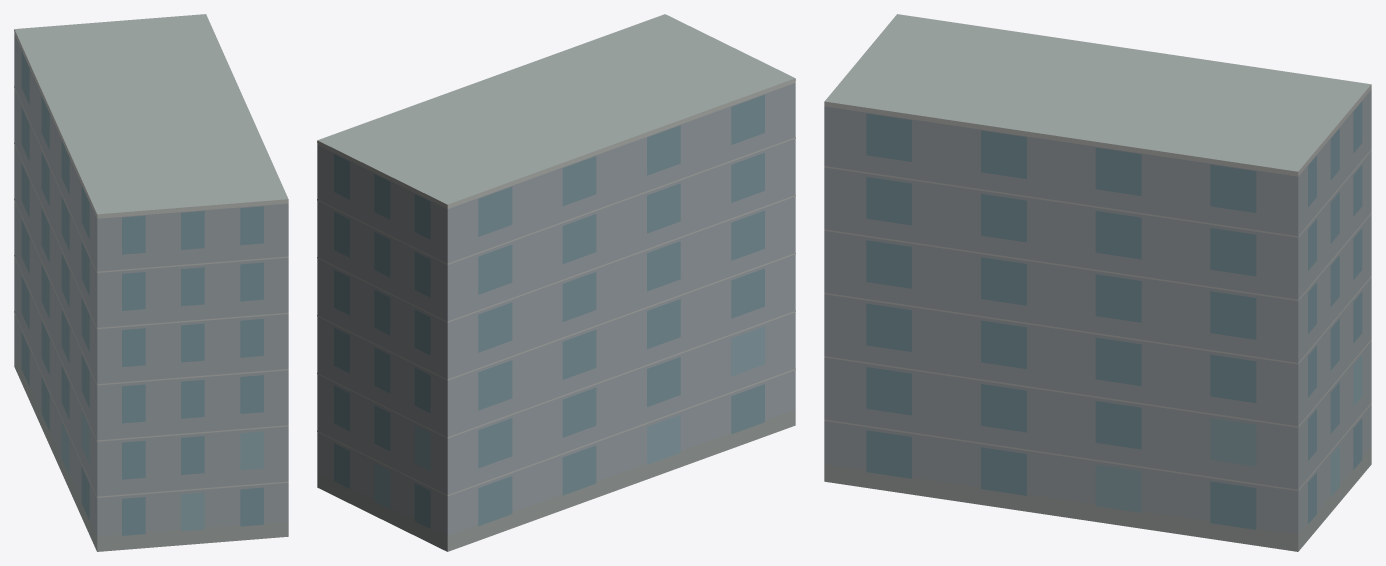
Rendered from survey-upis-32514877.glb.
3 views of the same model, side by side, from view 1: azimuth 30°, elevation 25°; view 2: azimuth 150°, elevation 25°; view 3: azimuth 270°, elevation 25° (orthographic). The views are drawn at different scales.
Parts seen in each view (by area): view 1: survey-upis-32514877.tmp; view 2: survey-upis-32514877.tmp; view 3: survey-upis-32514877.tmp.
Boxes of the visible parts, bbox=[...] form: survey-upis-32514877.tmp: bbox=[14, 14, 288, 551]; survey-upis-32514877.tmp: bbox=[317, 14, 795, 551]; survey-upis-32514877.tmp: bbox=[824, 14, 1371, 551].
Size of the model in its own units: 16.67 by 18.7 by 24.42.
